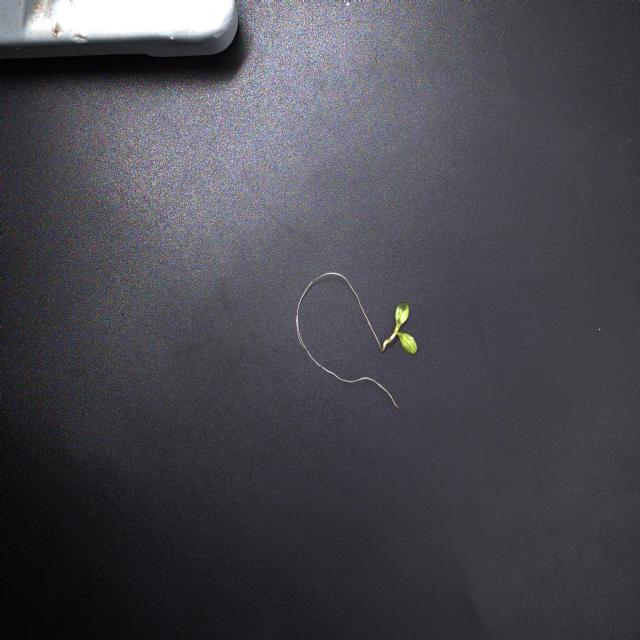leaf: (395, 301, 420, 356)
root: (293, 270, 400, 411)
steb: (382, 333, 397, 352)
